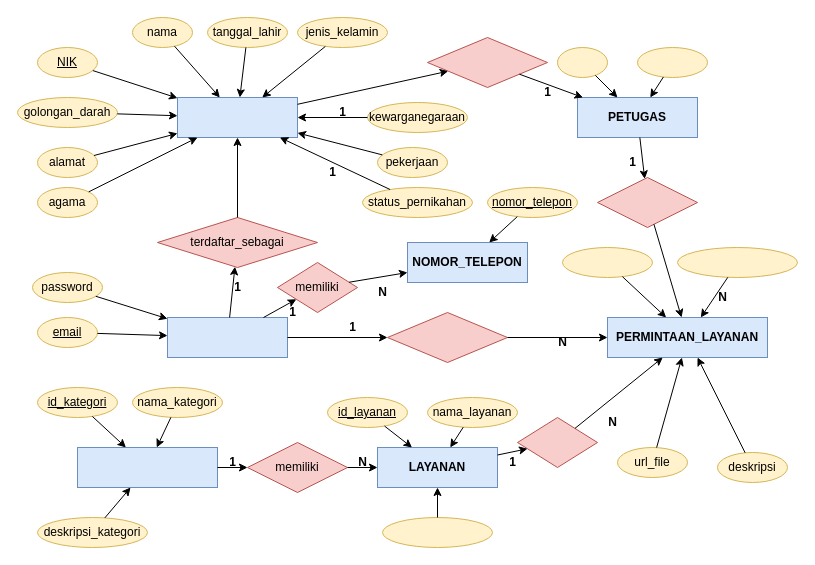
The diagram is 815 pixels wide and 565 high, and some of its shapes have lost their labels. Here are the shapes that lost their labels. From the top down, the centre of each, then its label:
point (487, 62): merupakan
point (582, 62): NIP
point (672, 62): keahlian
point (237, 117): PENDUDUK
point (647, 202): menangani
point (607, 262): id_permintaan
point (737, 262): tanggal_permintaan
point (227, 337): PENGGUNA
point (447, 337): mengajukan
point (557, 442): diminta
point (147, 467): KATEGORI_LAYANAN
point (437, 532): deskripsi_layanan
